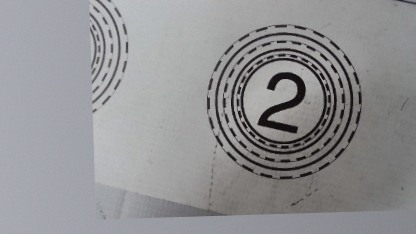2r: (198, 22, 366, 183)
